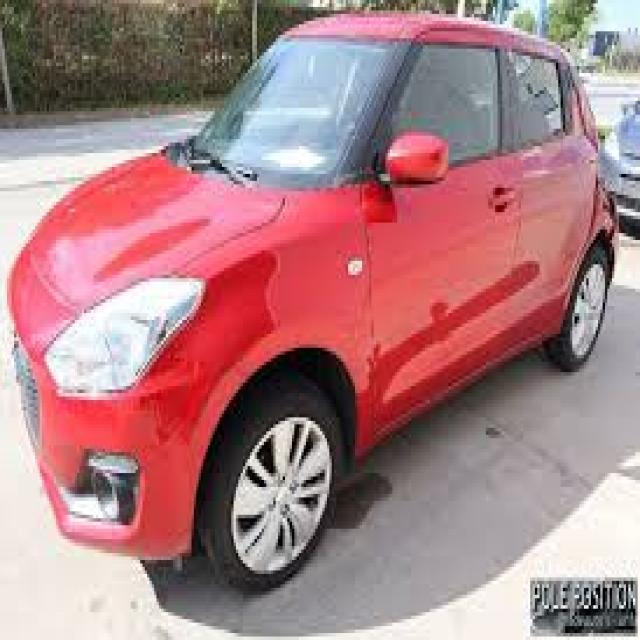minor: (102, 261, 308, 501)
